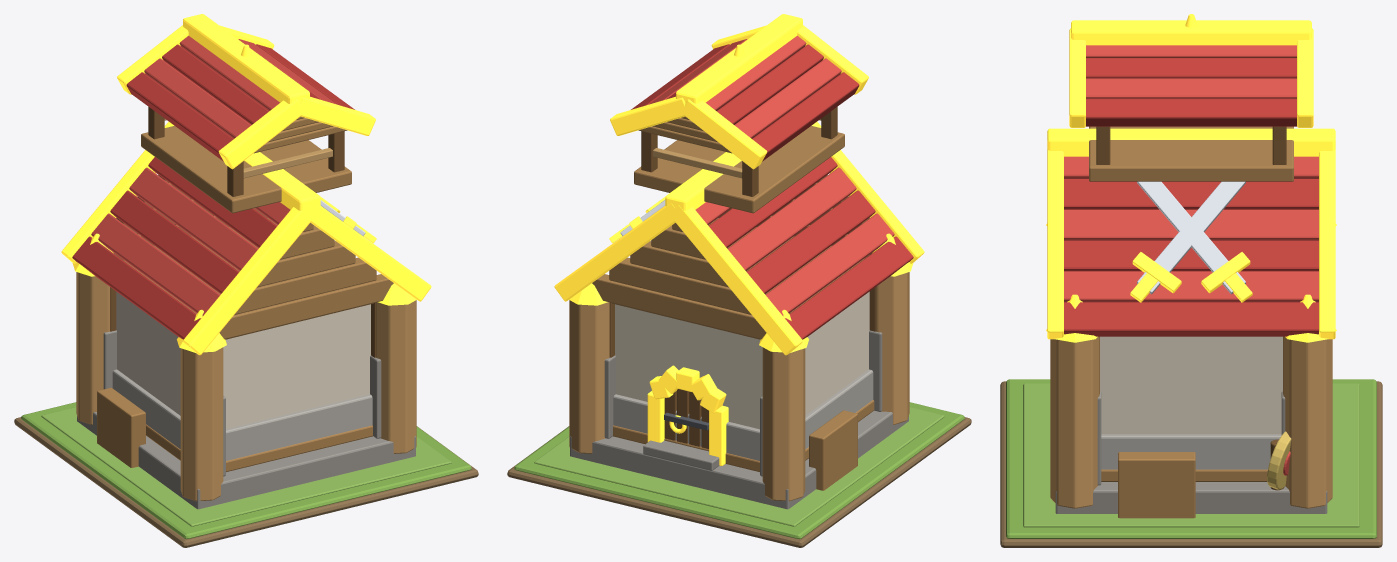
The model's file is barracks_lv5.glb.
3 views of the same model, side by side, from view 1: azimuth 30°, elevation 25°; view 2: azimuth 150°, elevation 25°; view 3: azimuth 270°, elevation 25° (orthographic). The views are drawn at different scales.
Parts seen in each view (by area): view 1: PlasterCore, Base_Inner, Foundation, Base_Grass, RoofPlatform, BarracksStoneWainscot, BR_Bastion_-1_-1, BR_Bastion_1_-1, Base_Dirt, Bargeboard_-1_-1, BR_Bastion_-1_1, RoofSlope_-1_2 (+28 smaller); view 2: PlasterCore, Base_Inner, Base_Grass, RoofPlatform, Foundation, BR_Bastion_-1_1, BR_Bastion_1_1, Base_Dirt, BR_Bastion_-1_-1, Bargeboard_1_-1, BarracksStoneWainscot, RoofSlope_-1_2 (+31 smaller); view 3: PlasterCore, Base_Inner, Base_Grass, RoofSlope_1_5, RoofPlatform, BR_Bastion_1_-1, BR_Bastion_1_1, RoofSlope_1_2, RoofSlope_1_4, RoofSlope_1_3.001, RoofSlope_1_3, RoofSlope_1_1 (+22 smaller).
Boxes of the visible parts, box(x1,y1,x2,y2) form: PlasterCore: box(116, 291, 370, 429); Base_Inner: box(41, 407, 451, 526); Foundation: box(77, 412, 415, 509); Base_Grass: box(21, 402, 471, 539); RoofPlatform: box(141, 126, 351, 213); BarracksStoneWainscot: box(112, 369, 372, 460); BR_Bastion_-1_-1: box(180, 347, 223, 501); BR_Bastion_1_-1: box(376, 300, 416, 453); Base_Dirt: box(14, 417, 478, 547); Bargeboard_-1_-1: box(183, 205, 315, 355); BR_Bastion_-1_1: box(76, 272, 109, 424); RoofSlope_-1_2: box(129, 167, 258, 270); PlasterCore: box(615, 291, 869, 429); Base_Inner: box(534, 407, 944, 526); Base_Grass: box(514, 402, 964, 539); RoofPlatform: box(634, 126, 844, 213); Foundation: box(570, 410, 908, 509); BR_Bastion_-1_1: box(762, 347, 805, 501); BR_Bastion_1_1: box(569, 300, 609, 453); Base_Dirt: box(507, 417, 971, 547); BR_Bastion_-1_-1: box(876, 272, 909, 424); Bargeboard_1_-1: box(670, 205, 802, 355); BarracksStoneWainscot: box(613, 369, 873, 460); RoofSlope_-1_2: box(727, 167, 856, 270); PlasterCore: box(1100, 336, 1282, 434); Base_Inner: box(1023, 383, 1359, 527); Base_Grass: box(1006, 379, 1376, 538); RoofSlope_1_5: box(1064, 302, 1318, 336); RoofPlatform: box(1089, 126, 1293, 181); BR_Bastion_1_-1: box(1050, 336, 1099, 508); BR_Bastion_1_1: box(1283, 336, 1332, 508); RoofSlope_1_2: box(1064, 209, 1318, 240); RoofSlope_1_4: box(1064, 271, 1318, 302); RoofSlope_1_3.001: box(1086, 98, 1296, 126); RoofSlope_1_3: box(1064, 240, 1318, 271); RoofSlope_1_1: box(1064, 179, 1318, 209).
Size of the model in its own units: 2.76 by 3.61 by 2.76.
